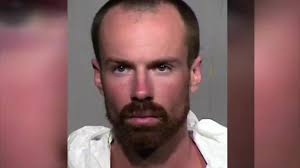white_male: (77, 6, 201, 148)
